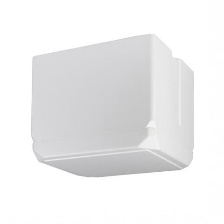foam_box: (24, 30, 200, 182)
